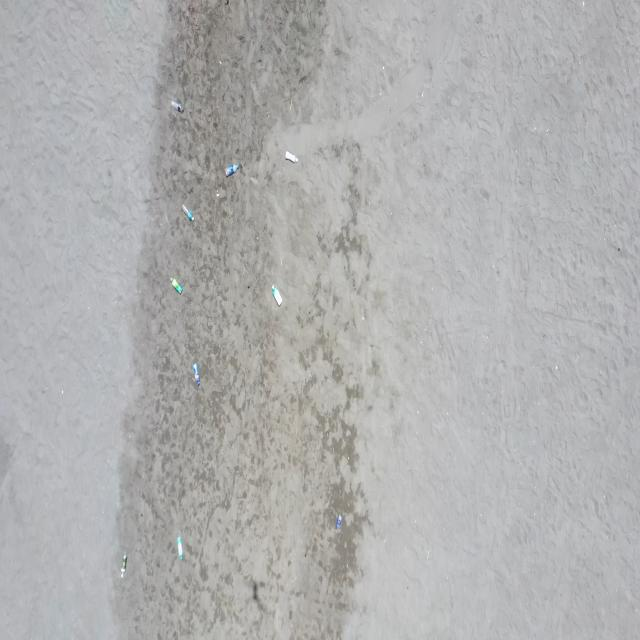Garbage: (224, 163, 239, 176), (176, 535, 183, 559), (272, 283, 280, 304), (183, 203, 192, 220), (192, 363, 199, 384), (171, 100, 183, 111), (284, 151, 297, 161), (172, 278, 181, 292), (120, 552, 125, 576), (335, 515, 342, 527)
